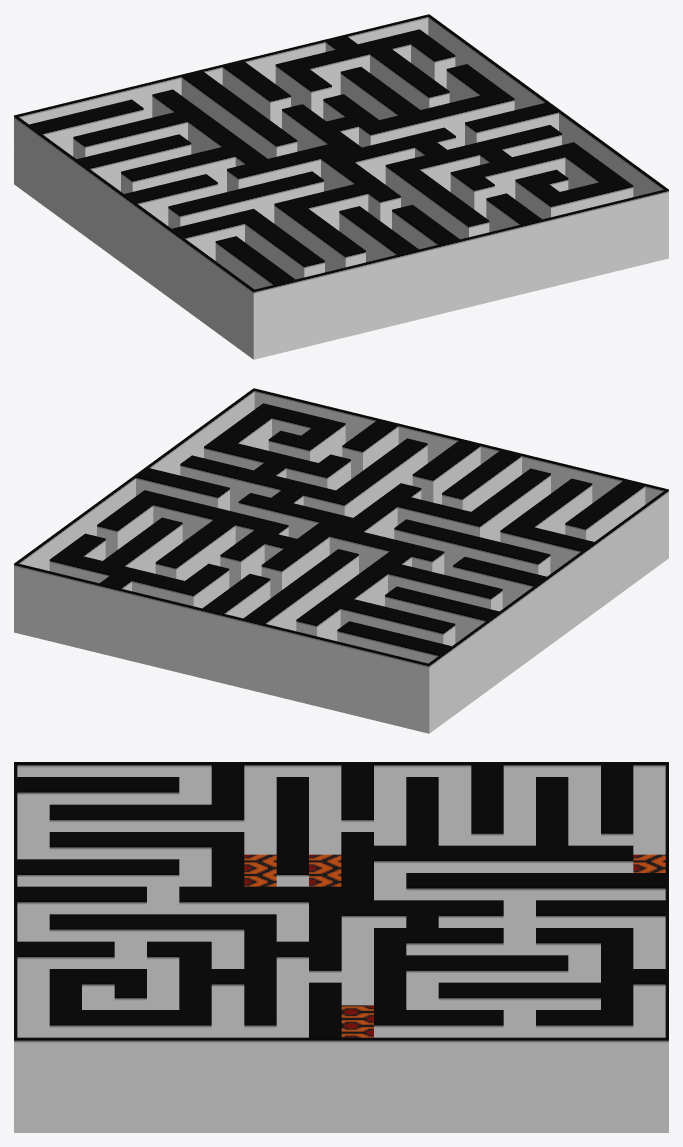
The model's file is Level04.fbx.
3 renders of one model, top to bottom at view 1: azimuth 30°, elevation 25°; view 2: azimuth 150°, elevation 25°; view 3: azimuth 270°, elevation 25°, orthographic. The views are drawn at different scales.
Visible parts, largest first — view 1: Union; view 2: Union; view 3: Union.
Boxes of the visible parts, x1,y1,x2,y2 form: Union: (14, 14, 668, 359); Union: (14, 388, 668, 733); Union: (14, 762, 668, 1132).
Size of the model in its own units: 202 by 32 by 202.
